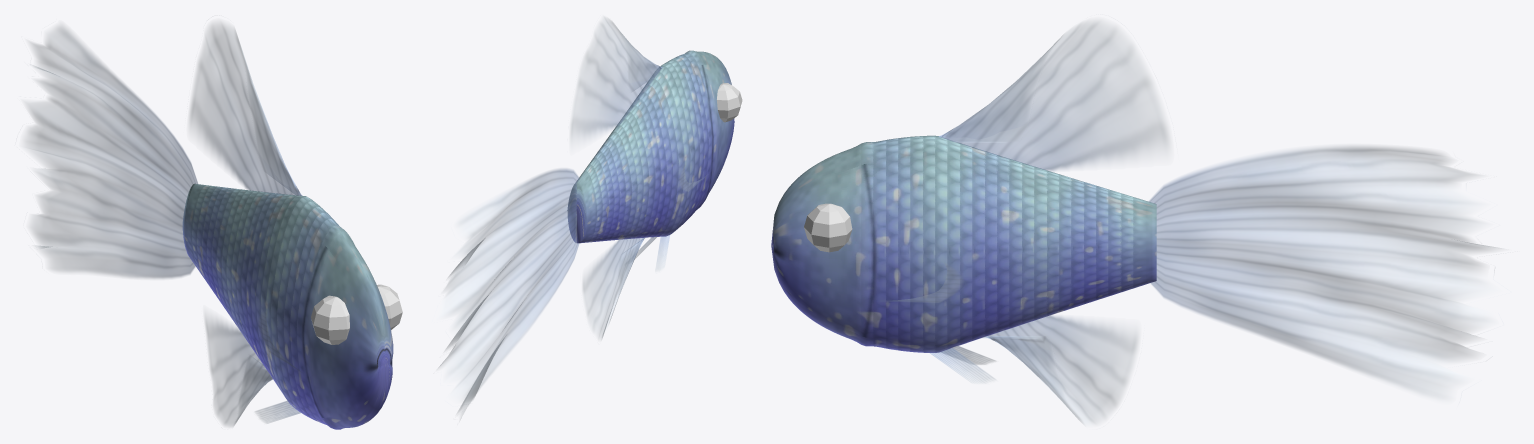
Rendered from moonfish.glb.
3 renders of one model, left to right at view 1: azimuth 30°, elevation 25°; view 2: azimuth 150°, elevation 25°; view 3: azimuth 270°, elevation 25°, orthographic. The views are drawn at different scales.
Parts seen in each view (by area): view 1: Fins, Body, EyeL, EyeR, PectL; view 2: Fins, Body, EyeL; view 3: Fins, Body, EyeR, PectR.
Boxes of the visible parts, x1,y1,x2,y2 form: Fins: (25, 23, 301, 426); Body: (182, 183, 393, 429); EyeL: (311, 295, 349, 344); EyeR: (377, 284, 402, 329); PectL: (258, 311, 301, 372); Fins: (439, 17, 669, 419); Body: (567, 50, 734, 243); EyeL: (717, 83, 742, 122); Fins: (930, 20, 1501, 425); Body: (771, 135, 1156, 352); EyeR: (804, 203, 852, 252); PectR: (887, 263, 962, 302).
Size of the model in its own units: 0.1307 by 0.5921 by 0.9674.
Materials: 2 (2 with a texture image).
